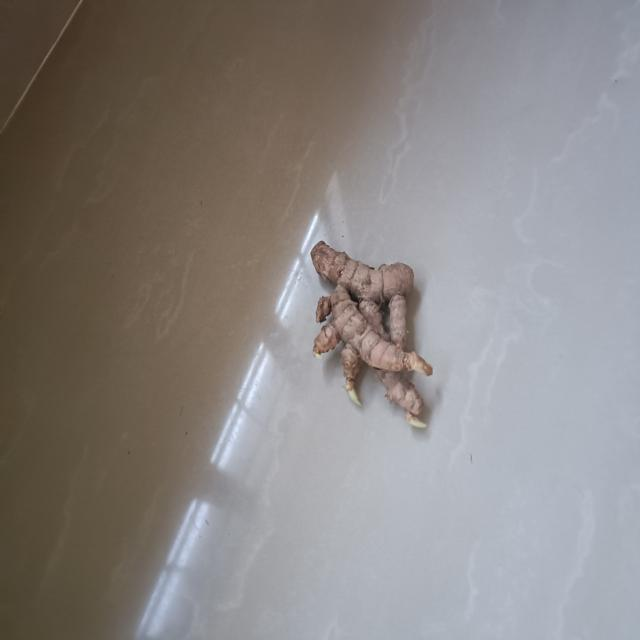ginger: (307, 233, 434, 431)
